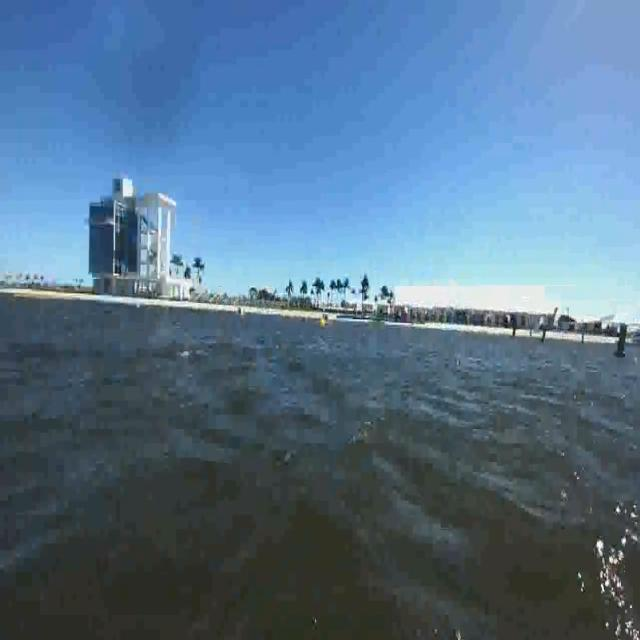green-column-buoy: (614, 322, 631, 360)
yellow-buoy: (320, 318, 326, 328)
